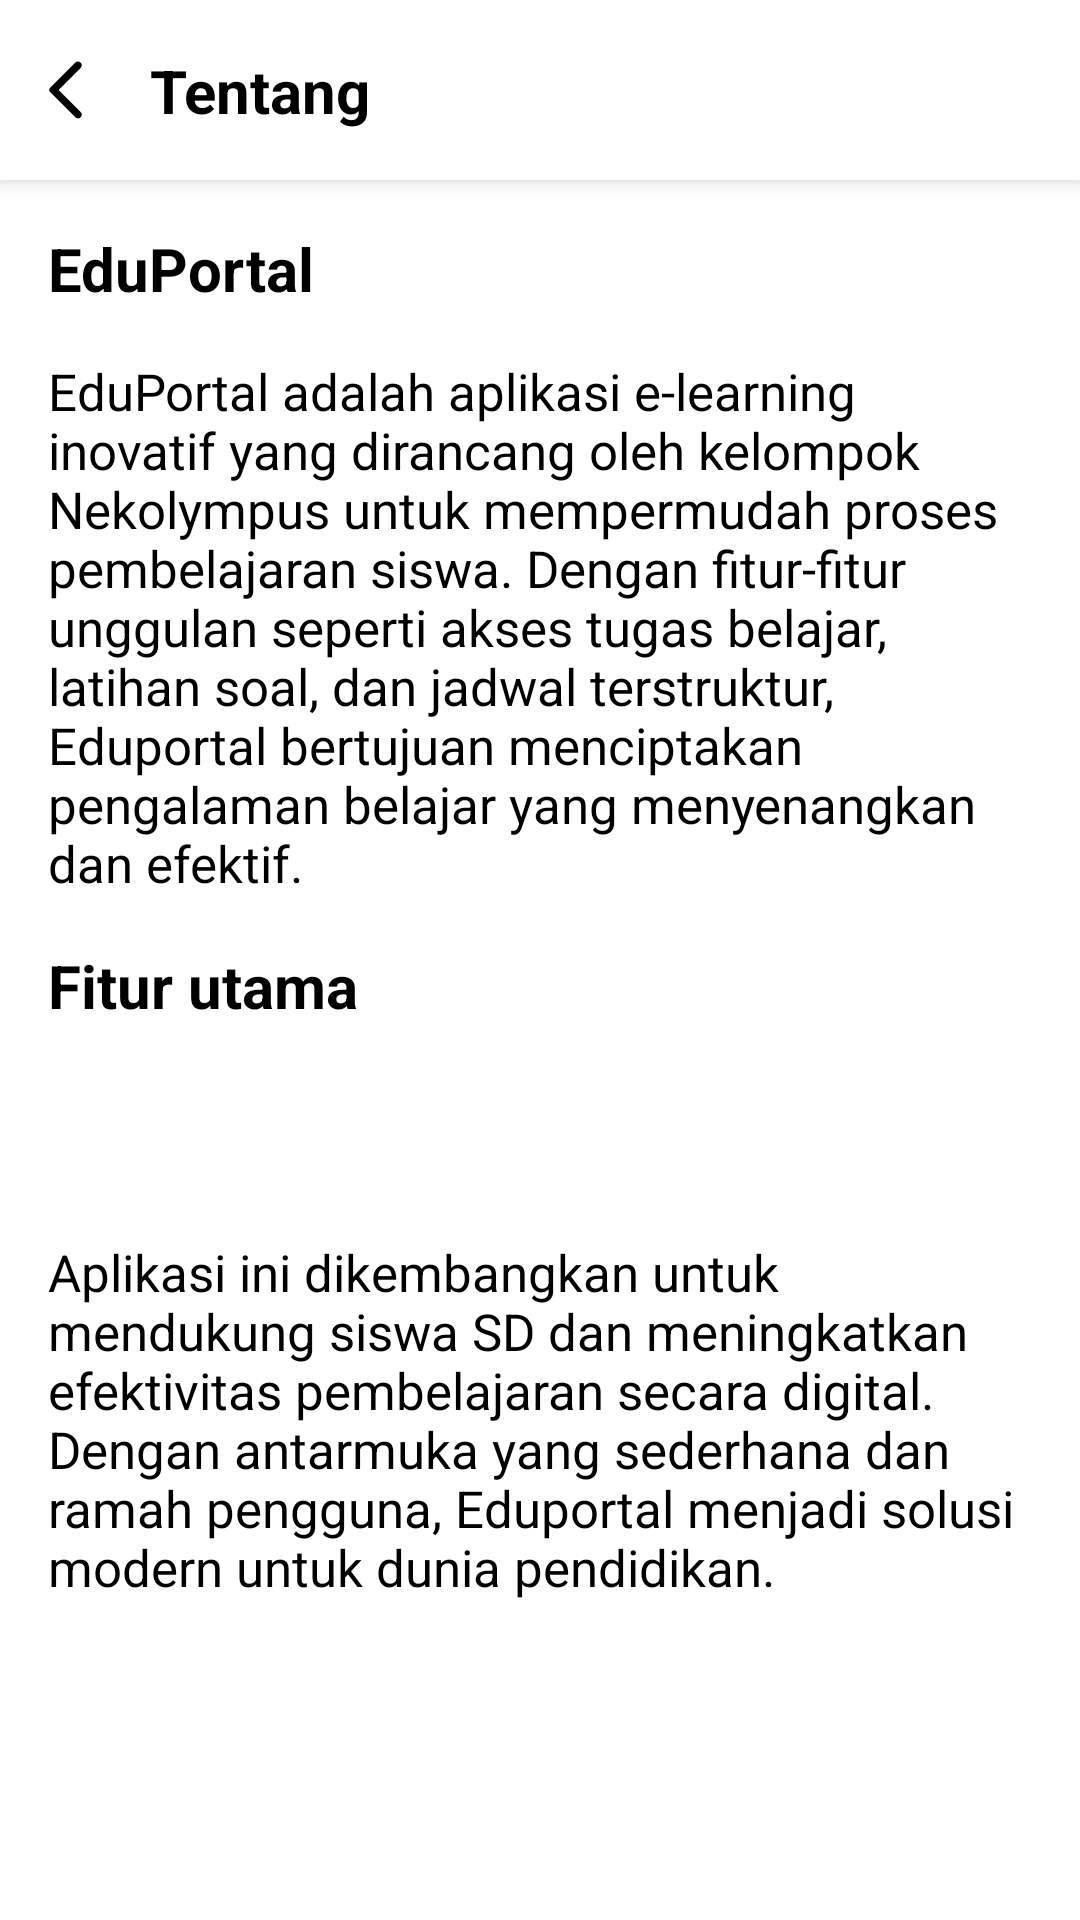

Screen size 1080px x 1920px. Icon name, then its box in pixels as (x1, y1, x2, y2):
back: (49, 61, 82, 119)
